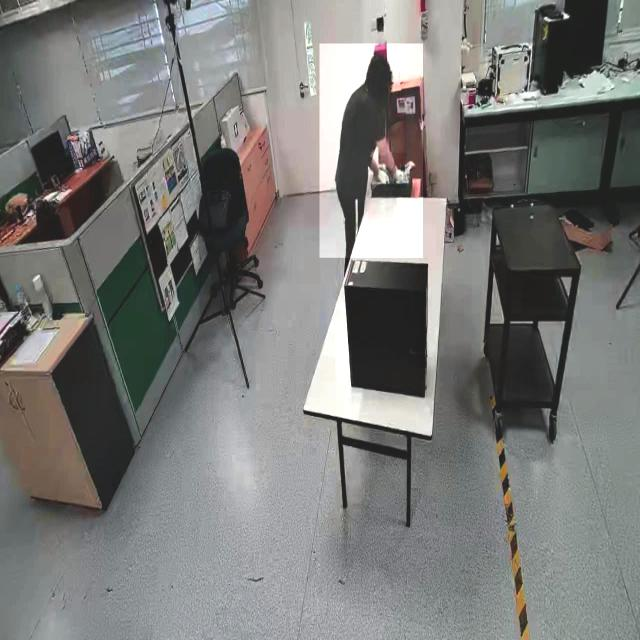hand_glove: (385, 153, 407, 189)
head_nohelmet: (368, 53, 392, 74)
person: (319, 44, 423, 258)
